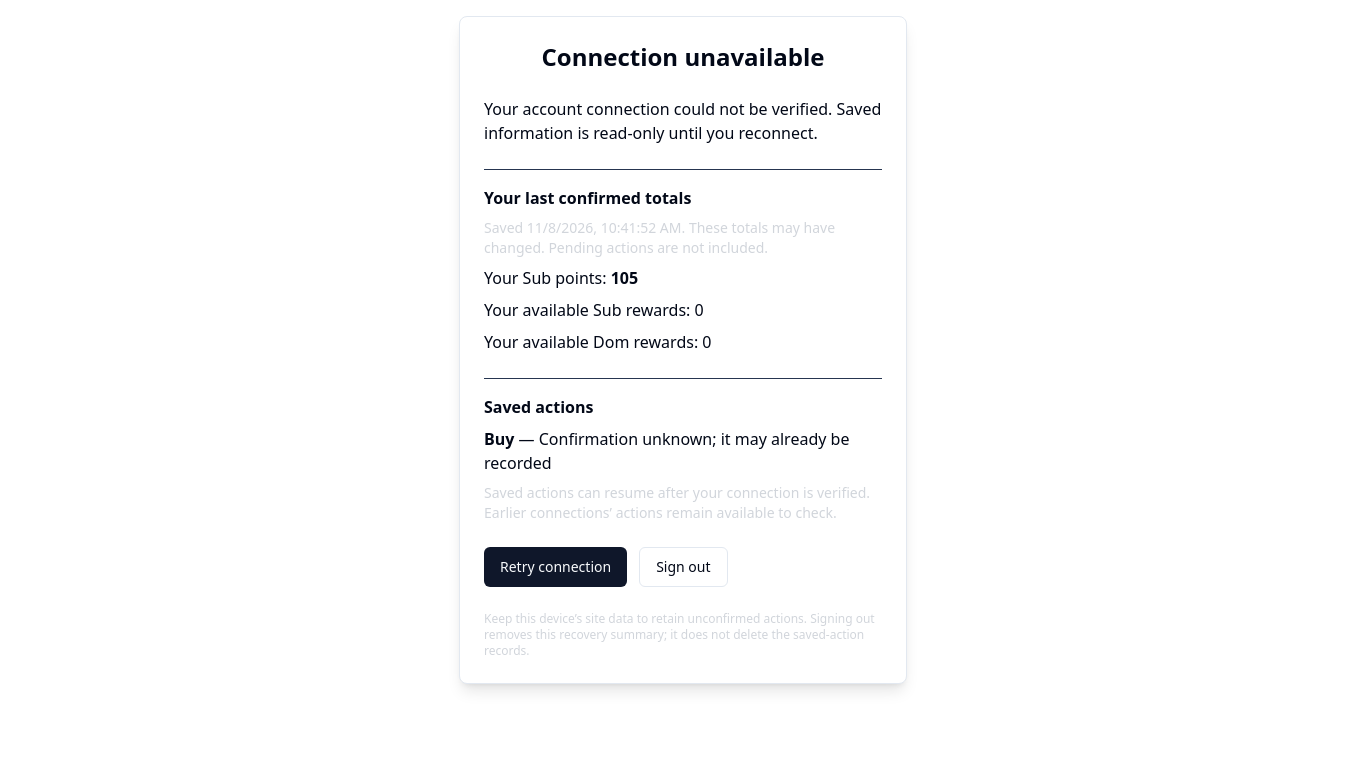
real identity boundary recovery path (mocked network and store) › reverifies before returning to the product and clears a changed period summary
Expected: the heading "Connection unavailable" is shown, [542,40,824,73]
Click the button "Retry connection" at (556, 567), box [484,547,627,587]
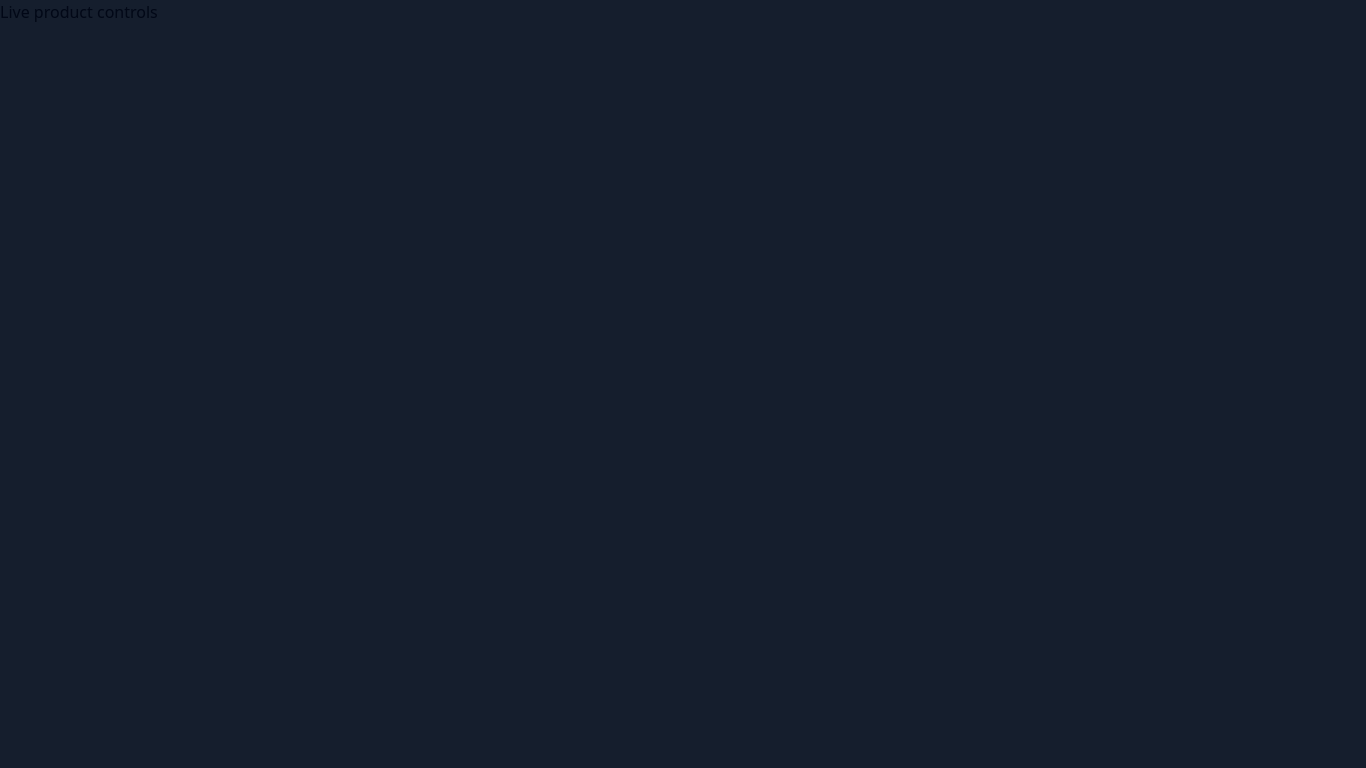
Expected: the text "105" is gone
